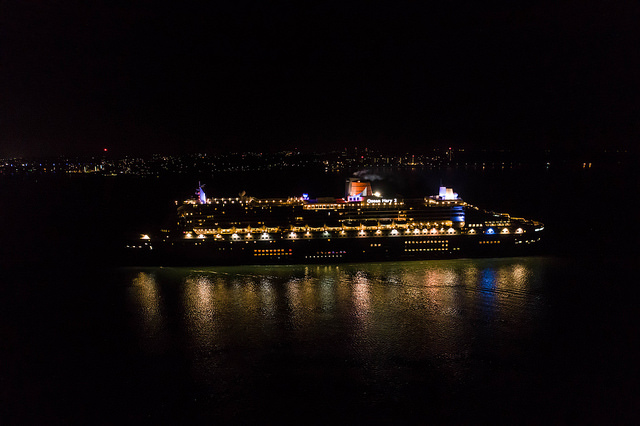cruise_ship: (125, 170, 558, 265)
